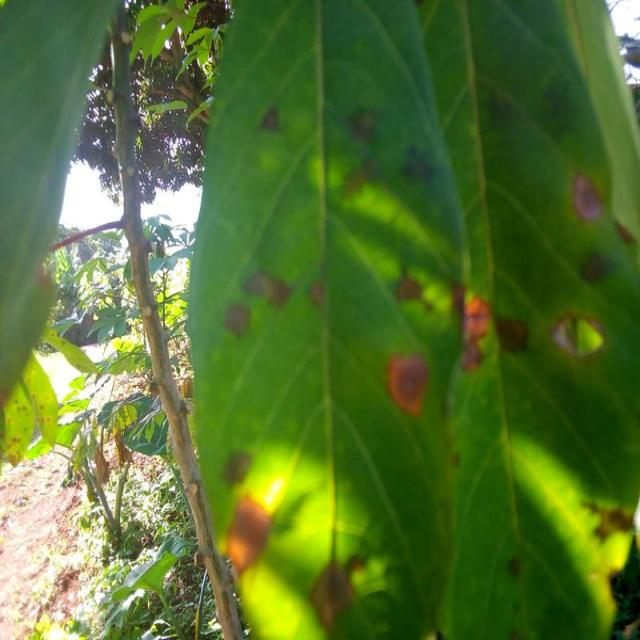cassava leaf: (186, 0, 639, 638)
